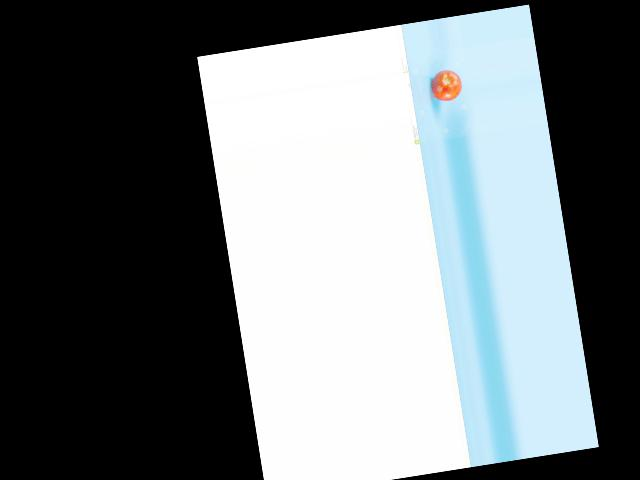tomato: (429, 67, 463, 102)
